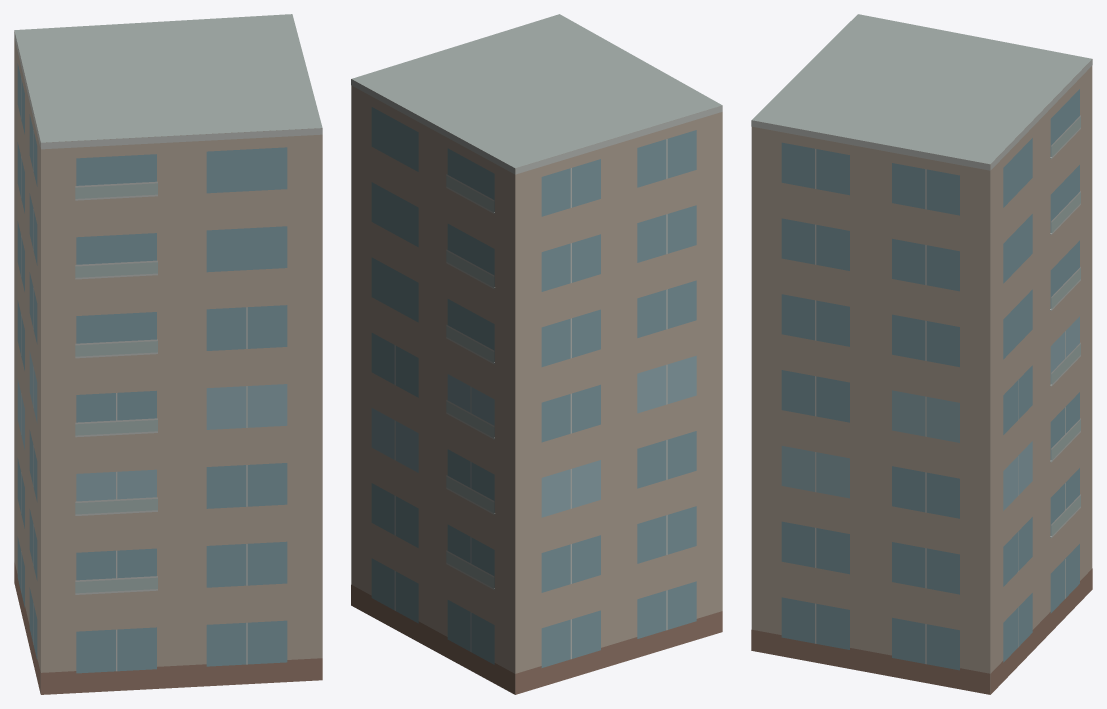
File: survey-upis-32534927.glb
3 renders of one model, left to right at view 1: azimuth 30°, elevation 25°; view 2: azimuth 150°, elevation 25°; view 3: azimuth 270°, elevation 25°, orthographic. The views are drawn at different scales.
Parts seen in each view (by area): view 1: survey-upis-32534927.tmp; view 2: survey-upis-32534927.tmp; view 3: survey-upis-32534927.tmp.
Boxes of the visible parts, x1,y1,x2,y2 form: survey-upis-32534927.tmp: (14,14,322,694); survey-upis-32534927.tmp: (351,14,722,694); survey-upis-32534927.tmp: (751,14,1092,694).
Size of the model in its own units: 12.28 by 20.2 by 11.77.
